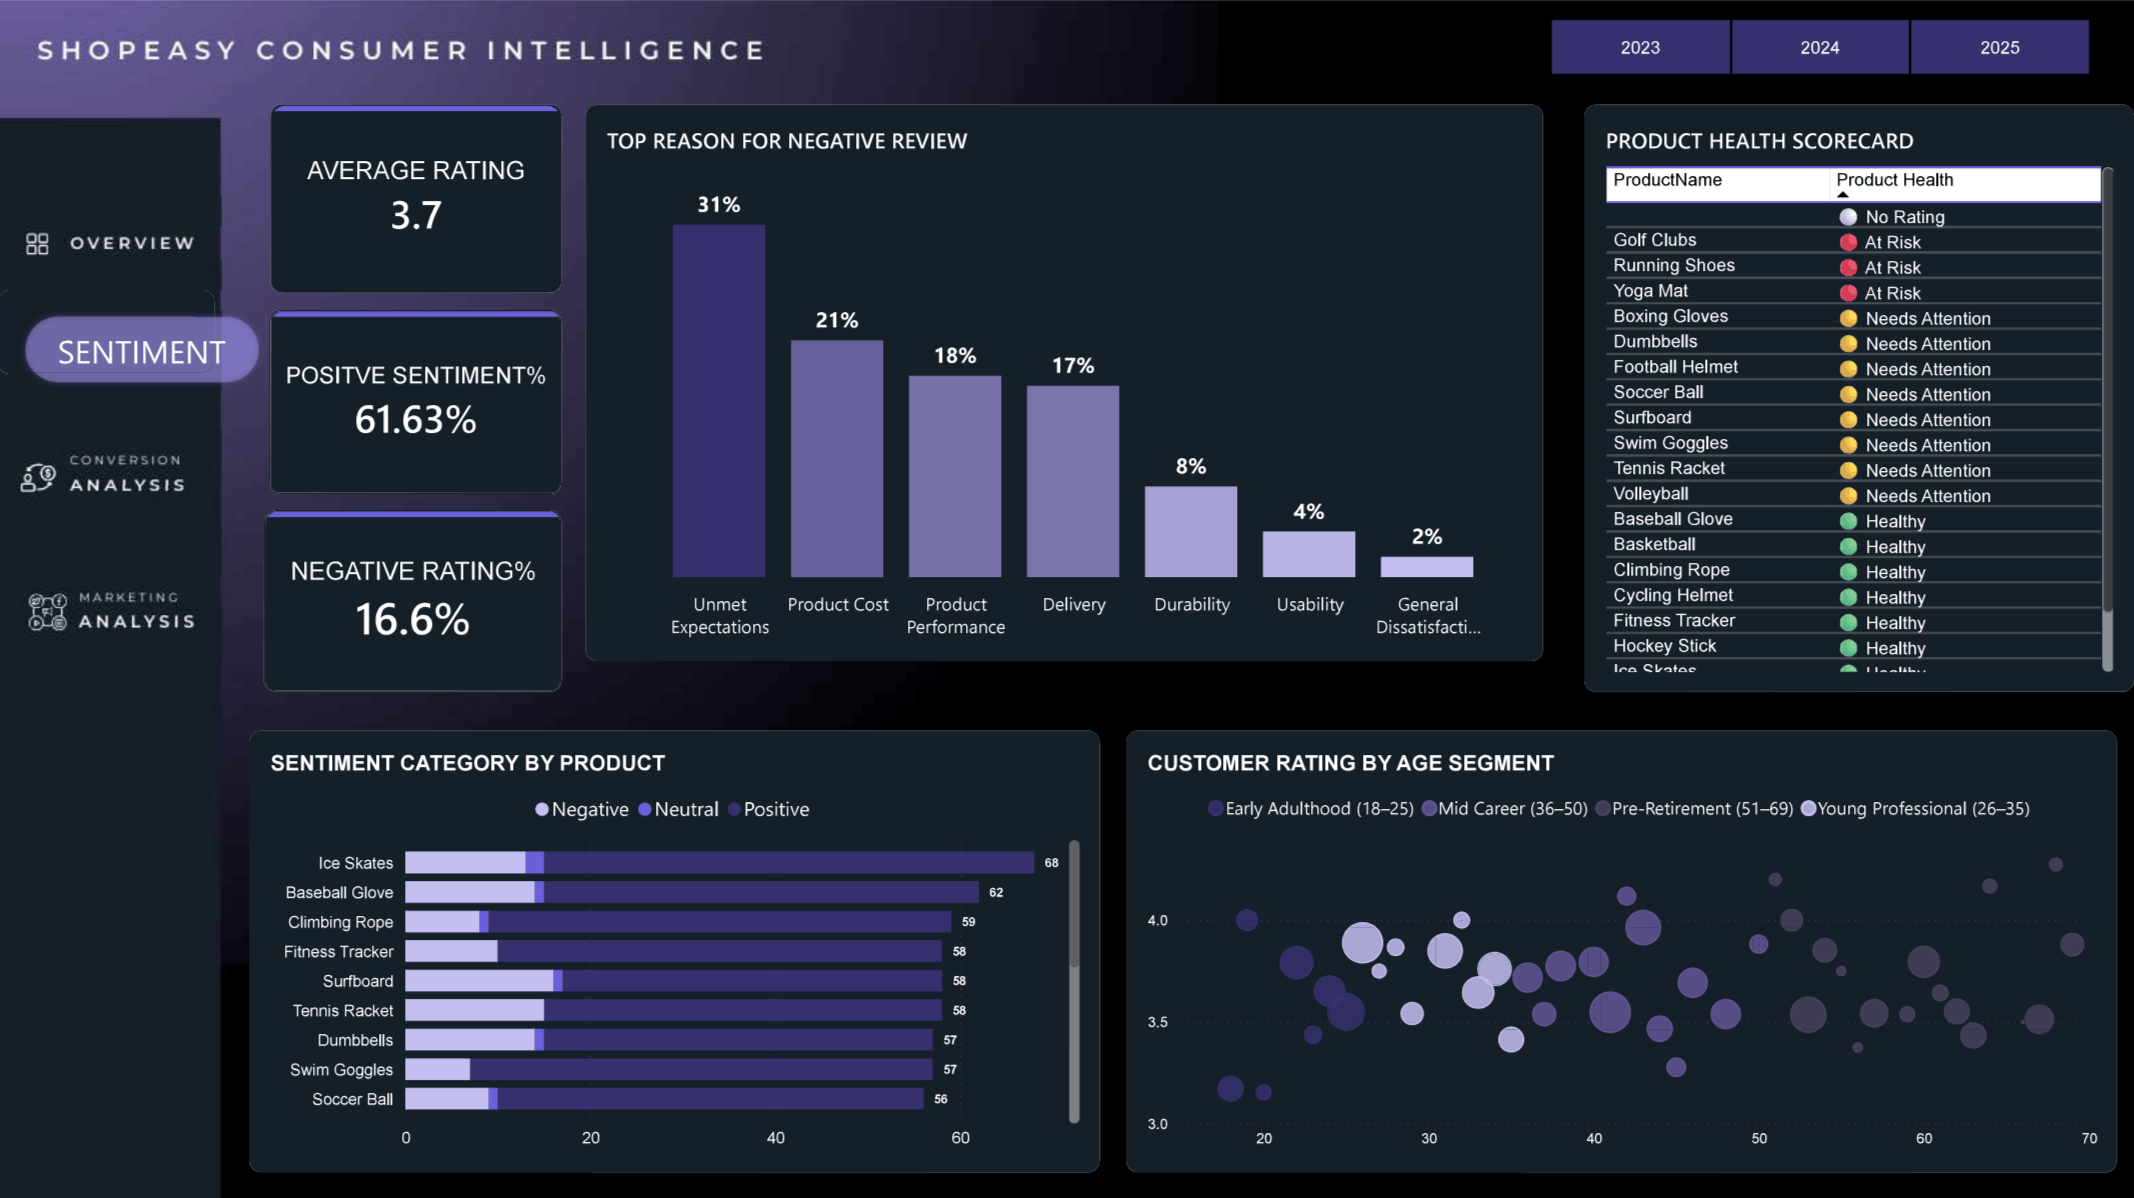

Layout of this report page (visuals, bound fields, positions):
{"tool":"powerbi","page":{"name":" Customer Sentiment","canvas":[1600,900],"ordinal":1},"visuals":[{"type":"cardVisual","fields":{"Data":["calculations.average rating"]},"box":[204,78.2,217.8,141.1],"z":0},{"type":"barChart","title":"SENTIMENT CATEGORY BY PRODUCT","fields":{"Category":["products.ProductName"],"Series":["customer_reviews_sentiment.SentimentCategory"],"Y":["CountNonNull(customer_reviews_sentiment.ReviewID)"]},"box":[188.3,546.7,636.7,331.7],"z":1000},{"type":"shape","box":[0,216.7,161.7,63.3],"z":2000},{"type":"clusteredColumnChart","title":"TOP REASON FOR NEGATIVE  REVIEW","fields":{"Category":["negative_reviews_issues.IssueCategory"],"Y":["Divide(CountNonNull(negative_reviews_issues.IssueCategory), ScopedEval(CountNonNull(negative_reviews_issues.IssueCategor"]},"box":[440,78.3,716.7,416.7],"z":3000},{"type":"scatterChart","title":"CUSTOMER RATING BY AGE SEGMENT","fields":{"Series":["customers.Age Segment"],"Size":["CountNonNull(customer_reviews_sentiment.ReviewID)"],"X":["customers.Age"],"Y":["Avg(customer_reviews_sentiment.Rating)"]},"box":[845,546.7,741.7,331.7],"z":4000},{"type":"tableEx","title":"PRODUCT HEALTH SCORECARD","fields":{"Values":["products.ProductName","calculations.Product Health"]},"box":[1188.3,78.3,411.7,440],"z":5000},{"type":"cardVisual","fields":{"Data":["calculations.% Positive Sentiment"]},"box":[203.3,231.7,218.3,138.3],"z":6000},{"type":"cardVisual","fields":{"Data":["negative_reviews_issues.neagtive review %"]},"box":[199.4,381.9,222.4,136.5],"z":7000},{"type":"shape","box":[0,216.7,215,90],"z":8000},{"type":"slicer","fields":{"Values":["Calendar.Date.Variation.Date Hierarchy.Year"]},"box":[1142.6,13.1,442.6,44.3],"z":9000},{"type":"pageNavigator","box":[0,306.7,183.3,205],"z":10000},{"type":"pageNavigator","box":[0,131.7,183.3,100],"z":11000}]}

Visuals, with their boxes on the page's 1600x900 design canvas (x1, y1, x2, y2). These are canvas units, not pixel positions in the 2134x1198 screenshot, which may show the page scaled, cropped or inside an application window:
cardVisual - calculations.average rating: crop(204, 78, 422, 219)
"SENTIMENT CATEGORY BY PRODUCT" barChart: crop(188, 547, 825, 878)
shape: crop(0, 217, 162, 280)
"TOP REASON FOR NEGATIVE  REVIEW" clusteredColumnChart: crop(440, 78, 1157, 495)
"CUSTOMER RATING BY AGE SEGMENT" scatterChart: crop(845, 547, 1587, 878)
"PRODUCT HEALTH SCORECARD" tableEx: crop(1188, 78, 1600, 518)
cardVisual - calculations.% Positive Sentiment: crop(203, 232, 422, 370)
cardVisual - negative_reviews_issues.neagtive review %: crop(199, 382, 422, 518)
shape: crop(0, 217, 215, 307)
slicer - Calendar.Date.Variation.Date Hierarchy.Year: crop(1143, 13, 1585, 57)
pageNavigator: crop(0, 307, 183, 512)
pageNavigator: crop(0, 132, 183, 232)
